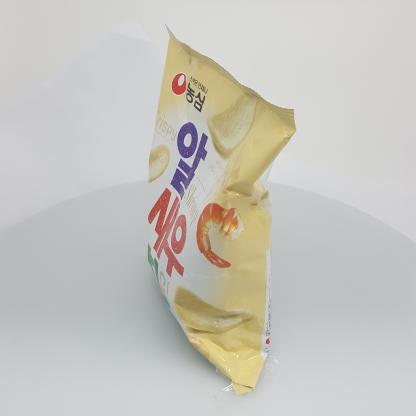Plastic Packaging: (131, 19, 309, 402)
